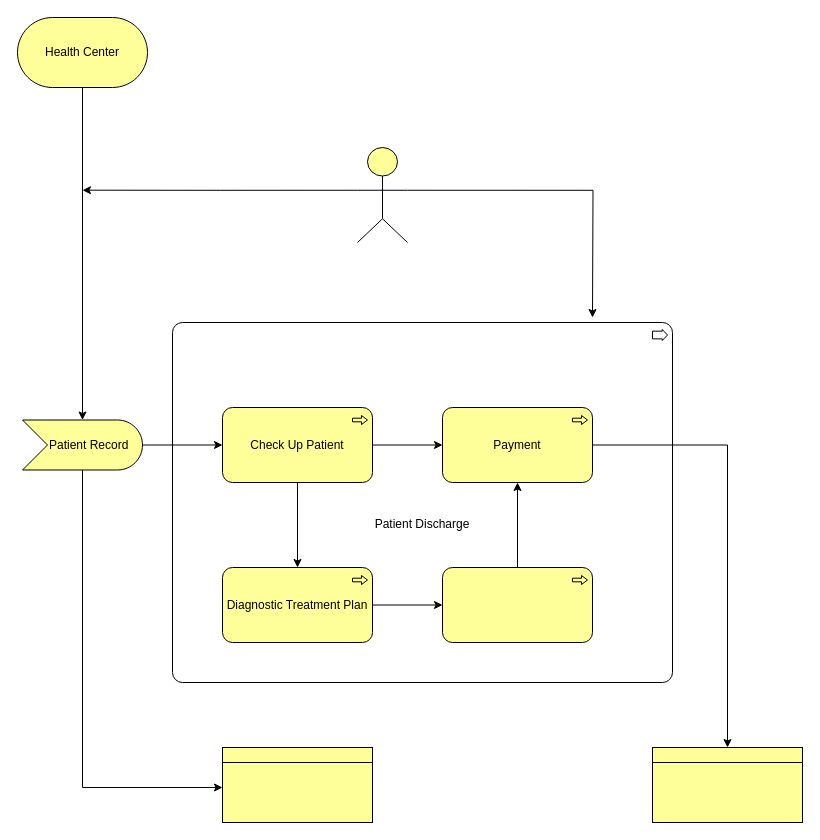
Image size: 820x840. Some labels were removed from this diagram. The centre of each missing label's shape, as x and y in pixels:
"Appointment Slip" goes at [297,784].
"Follow Up Appointment Schedule" goes at [517,604].
"Receipt" goes at [727,784].
